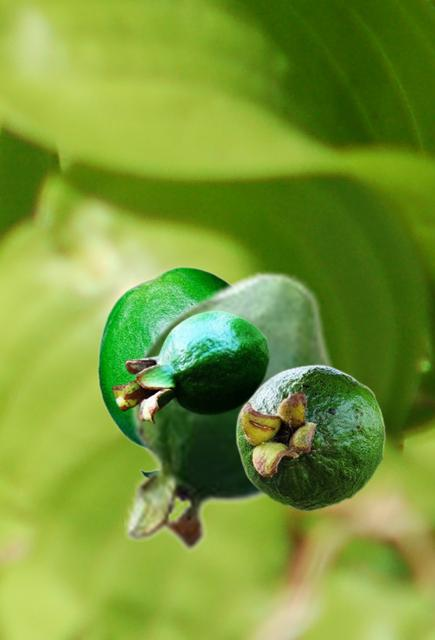guava: (124, 269, 335, 553), (96, 266, 229, 474), (235, 364, 385, 511), (111, 309, 269, 423)
